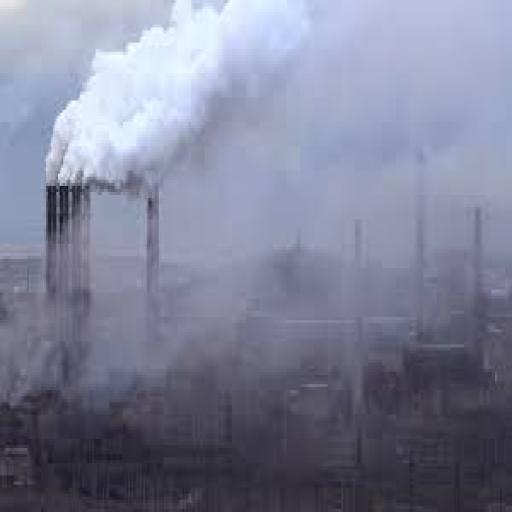smoke: (44, 3, 306, 186)
